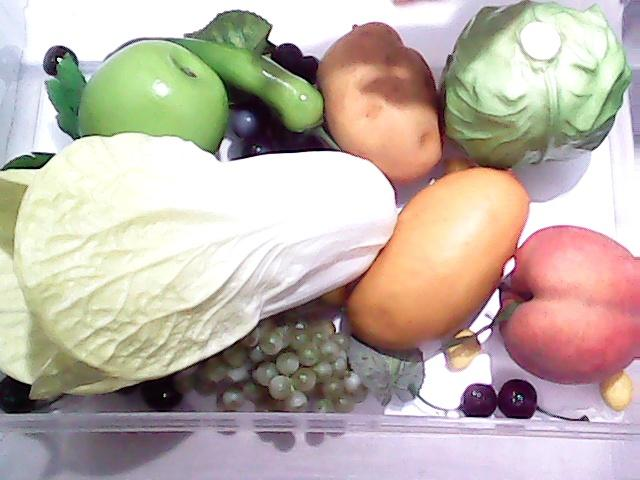apple: (75, 34, 235, 162)
cabbage: (432, 0, 632, 174)
carrot: (2, 48, 86, 168)
grape: (166, 300, 378, 418), (215, 36, 331, 164)
mango: (344, 161, 530, 355)
napa cabbage: (0, 123, 392, 420)
peach: (494, 223, 640, 385)
pepper: (168, 38, 336, 132)
potato: (316, 22, 444, 188)
